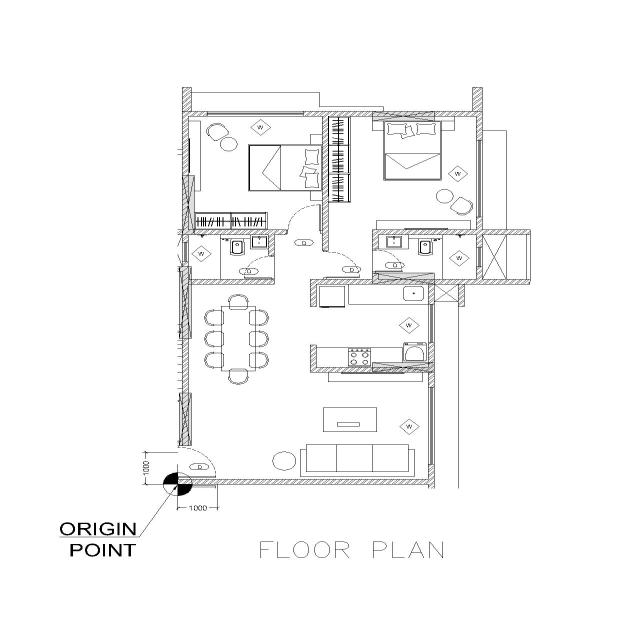Column: (370, 110, 436, 122)
Door: (177, 266, 193, 339), (181, 175, 195, 235), (371, 272, 435, 285), (178, 392, 192, 446), (372, 362, 435, 373), (175, 443, 183, 481), (285, 228, 323, 236), (322, 250, 329, 280), (371, 248, 379, 274), (268, 255, 275, 281)
Opening: (309, 306, 317, 345)
Window: (205, 109, 307, 118), (474, 138, 484, 219), (426, 386, 436, 466), (427, 303, 435, 343), (475, 246, 483, 268), (182, 242, 190, 262)
